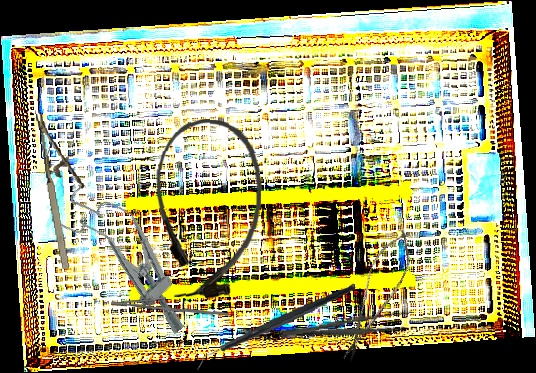Cannula: (149, 116, 266, 302)
Chopper: (191, 282, 361, 373)
Dressing Forceps: (280, 307, 416, 346)
Micro Scissor: (332, 221, 423, 369)
Needle Holder: (34, 105, 96, 270), (110, 288, 230, 321)
Speculum: (44, 170, 213, 344)
